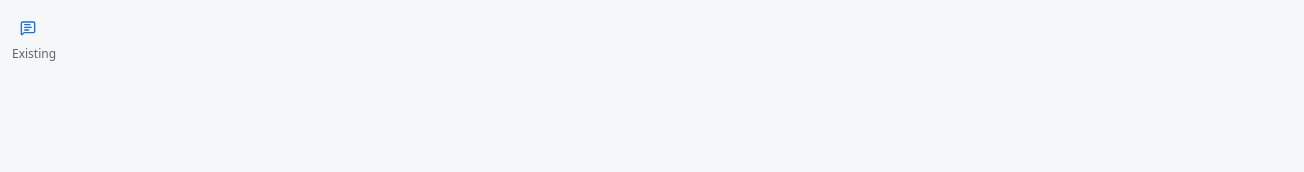
Test: OrderLineCommentCell › cancels on Escape without saving
The image size is (1304, 172).
Click the text with test id "order-line-comment" at (34, 54), box x1=12 y1=45 x2=56 y2=62
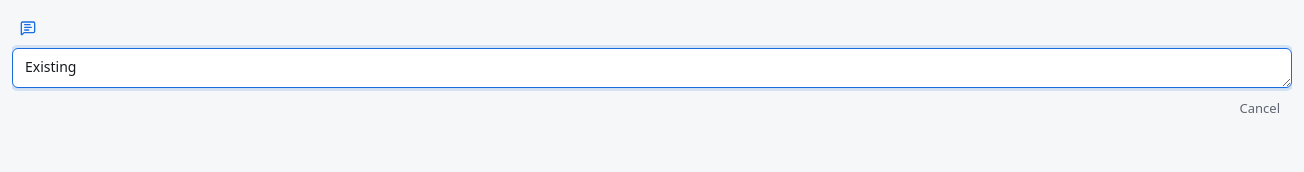
Replace the text in the text box with "Changed" at (652, 68), box x1=12 y1=48 x2=1292 y2=88
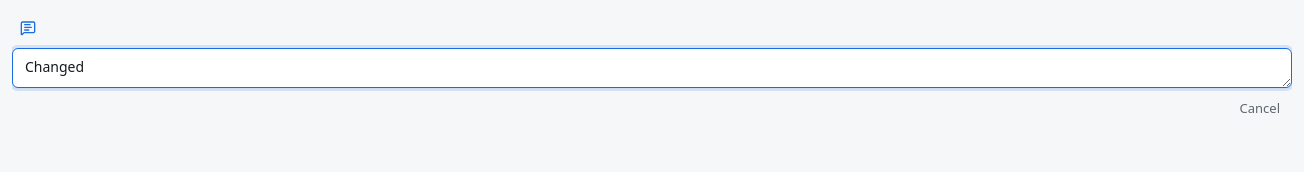
Press Escape
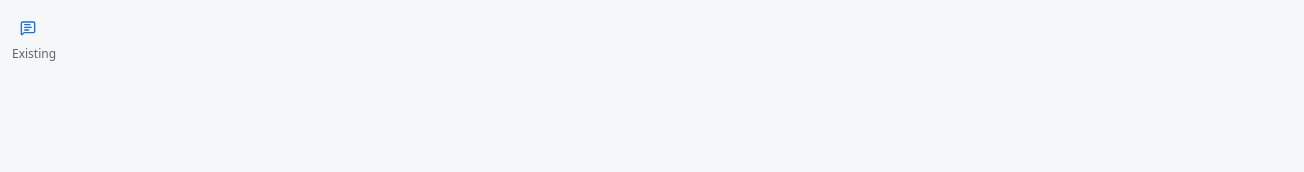
Expected: the text with test id "order-line-comment" reads "Existing", x1=12 y1=45 x2=56 y2=62
